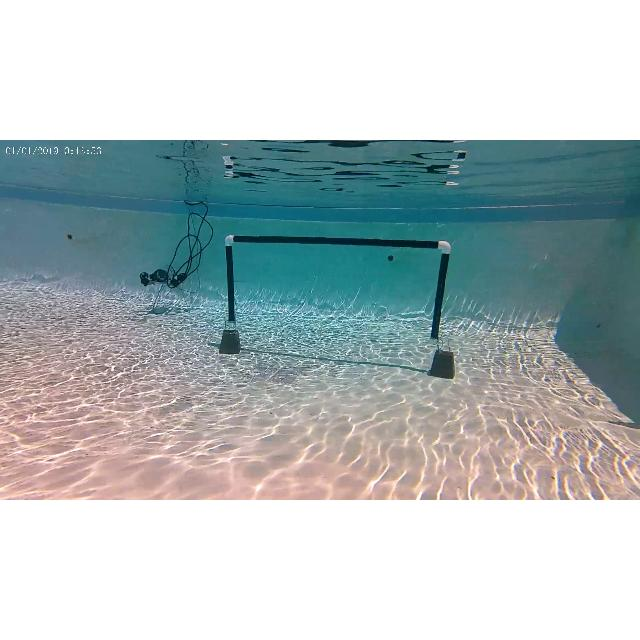prequal gate: (227, 236, 453, 344)
prequal gate leg l: (428, 236, 454, 348), (221, 233, 245, 333)
